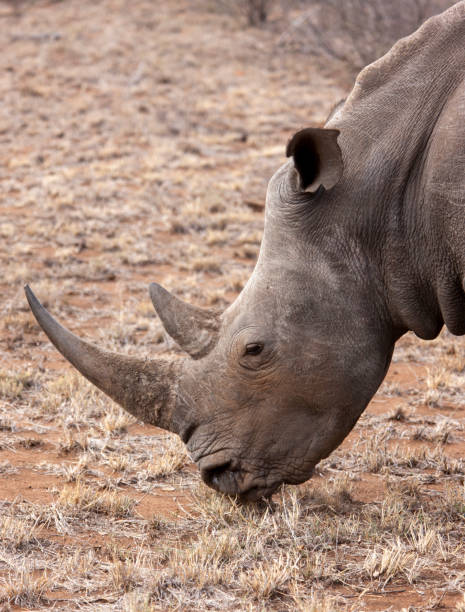rhino: (19, 131, 419, 526)
